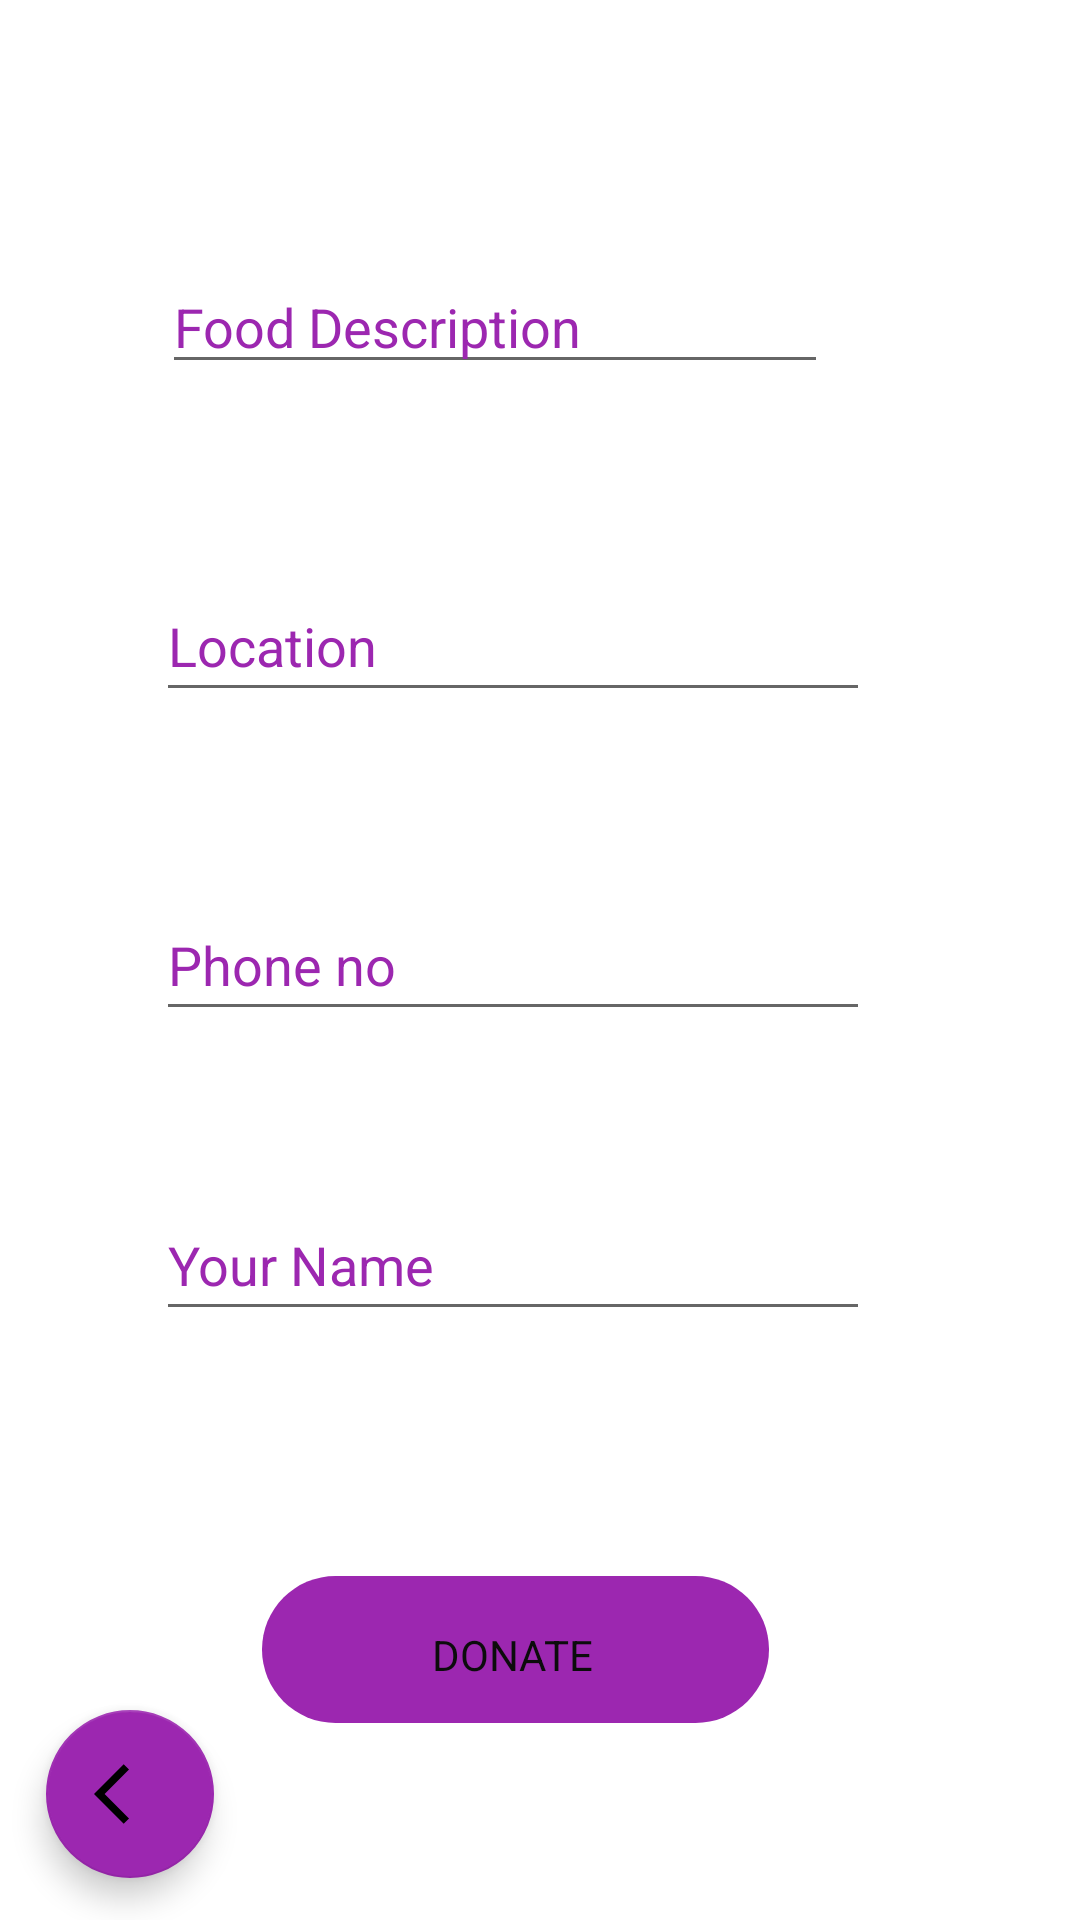

Screen size 1080×1920. Icon name, then its center in pixels as [x,y]:
arrow back: [130,1794]
